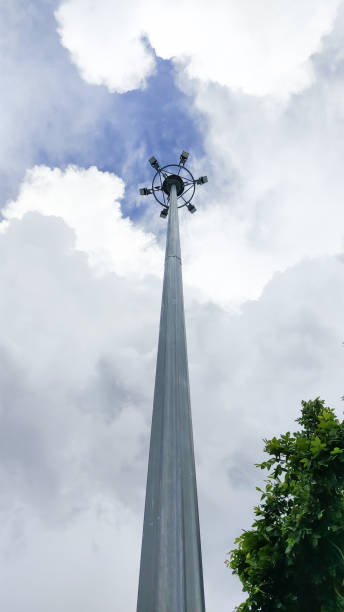light_pole: (136, 216, 208, 610)
